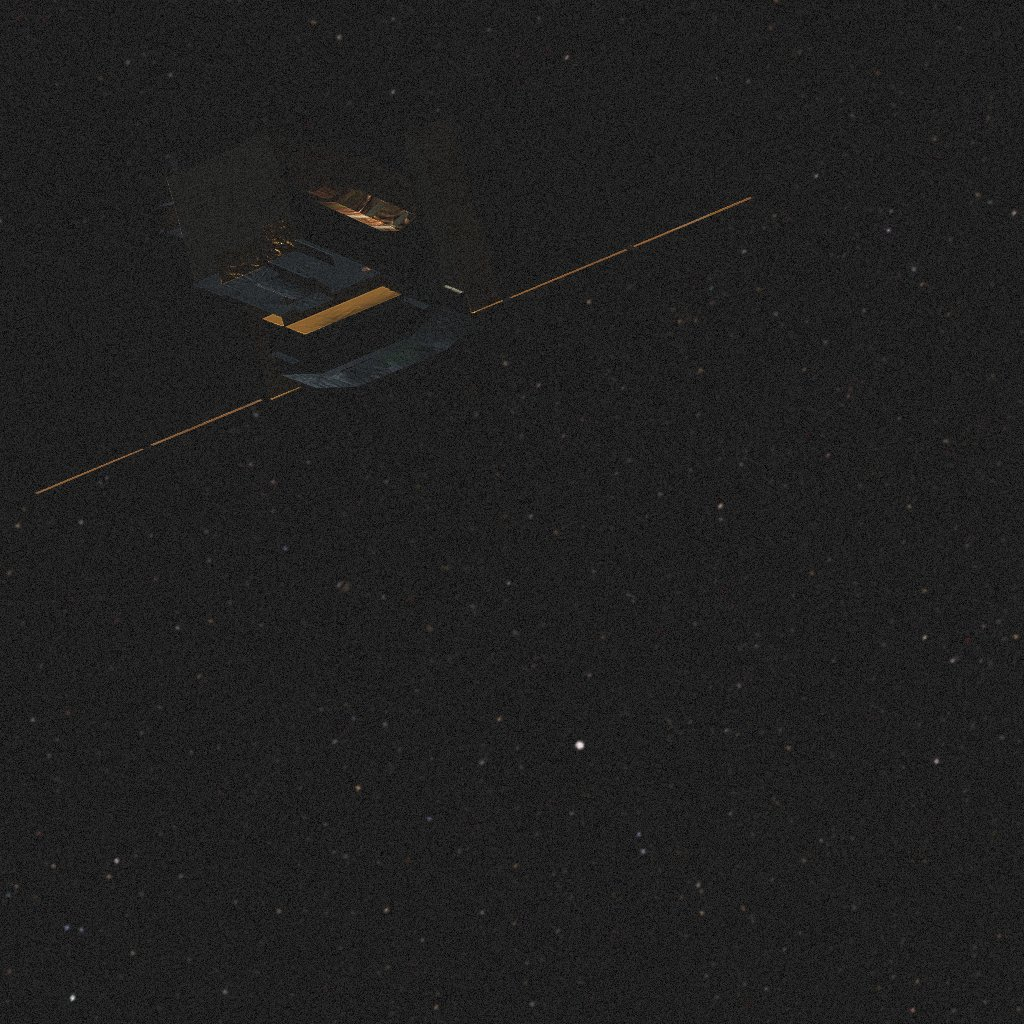soho: (0, 14, 752, 494)
